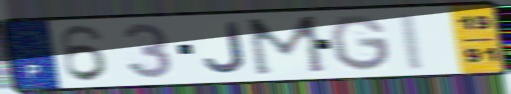3: (119, 21, 176, 82)
6: (58, 23, 112, 84)
G: (327, 13, 395, 73)
I: (396, 11, 428, 72)
J: (202, 20, 250, 76)
M: (244, 14, 331, 78)
